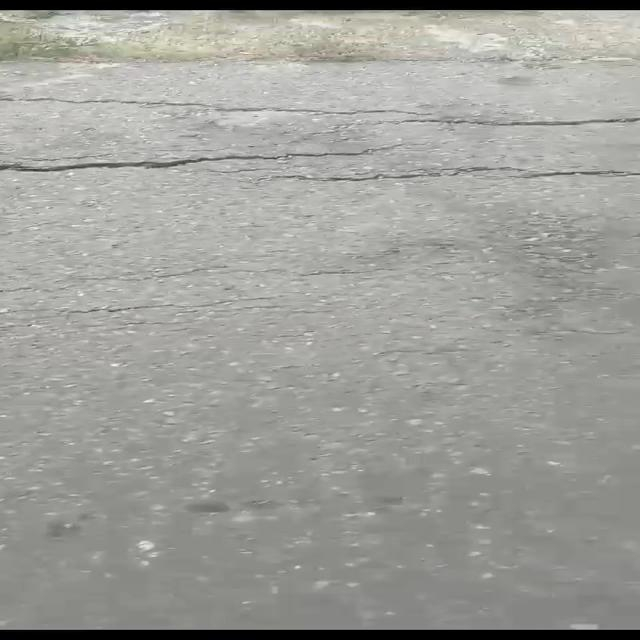Melintang: (0, 136, 408, 184)
